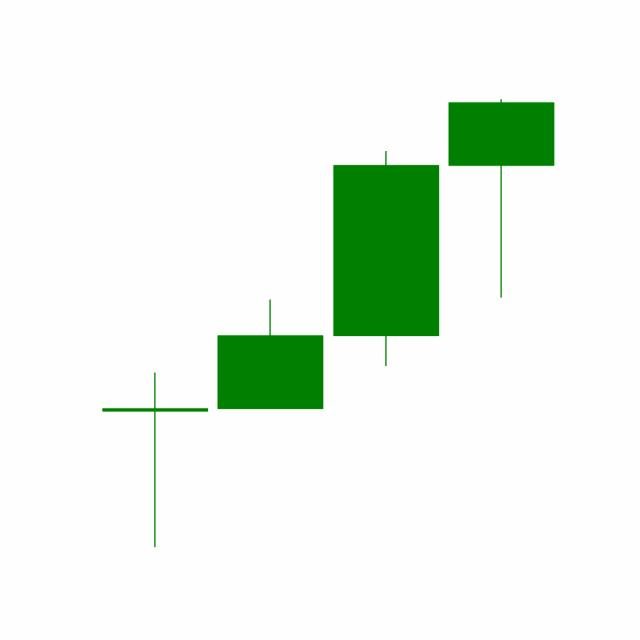Marubozu: (328, 147, 444, 368)
